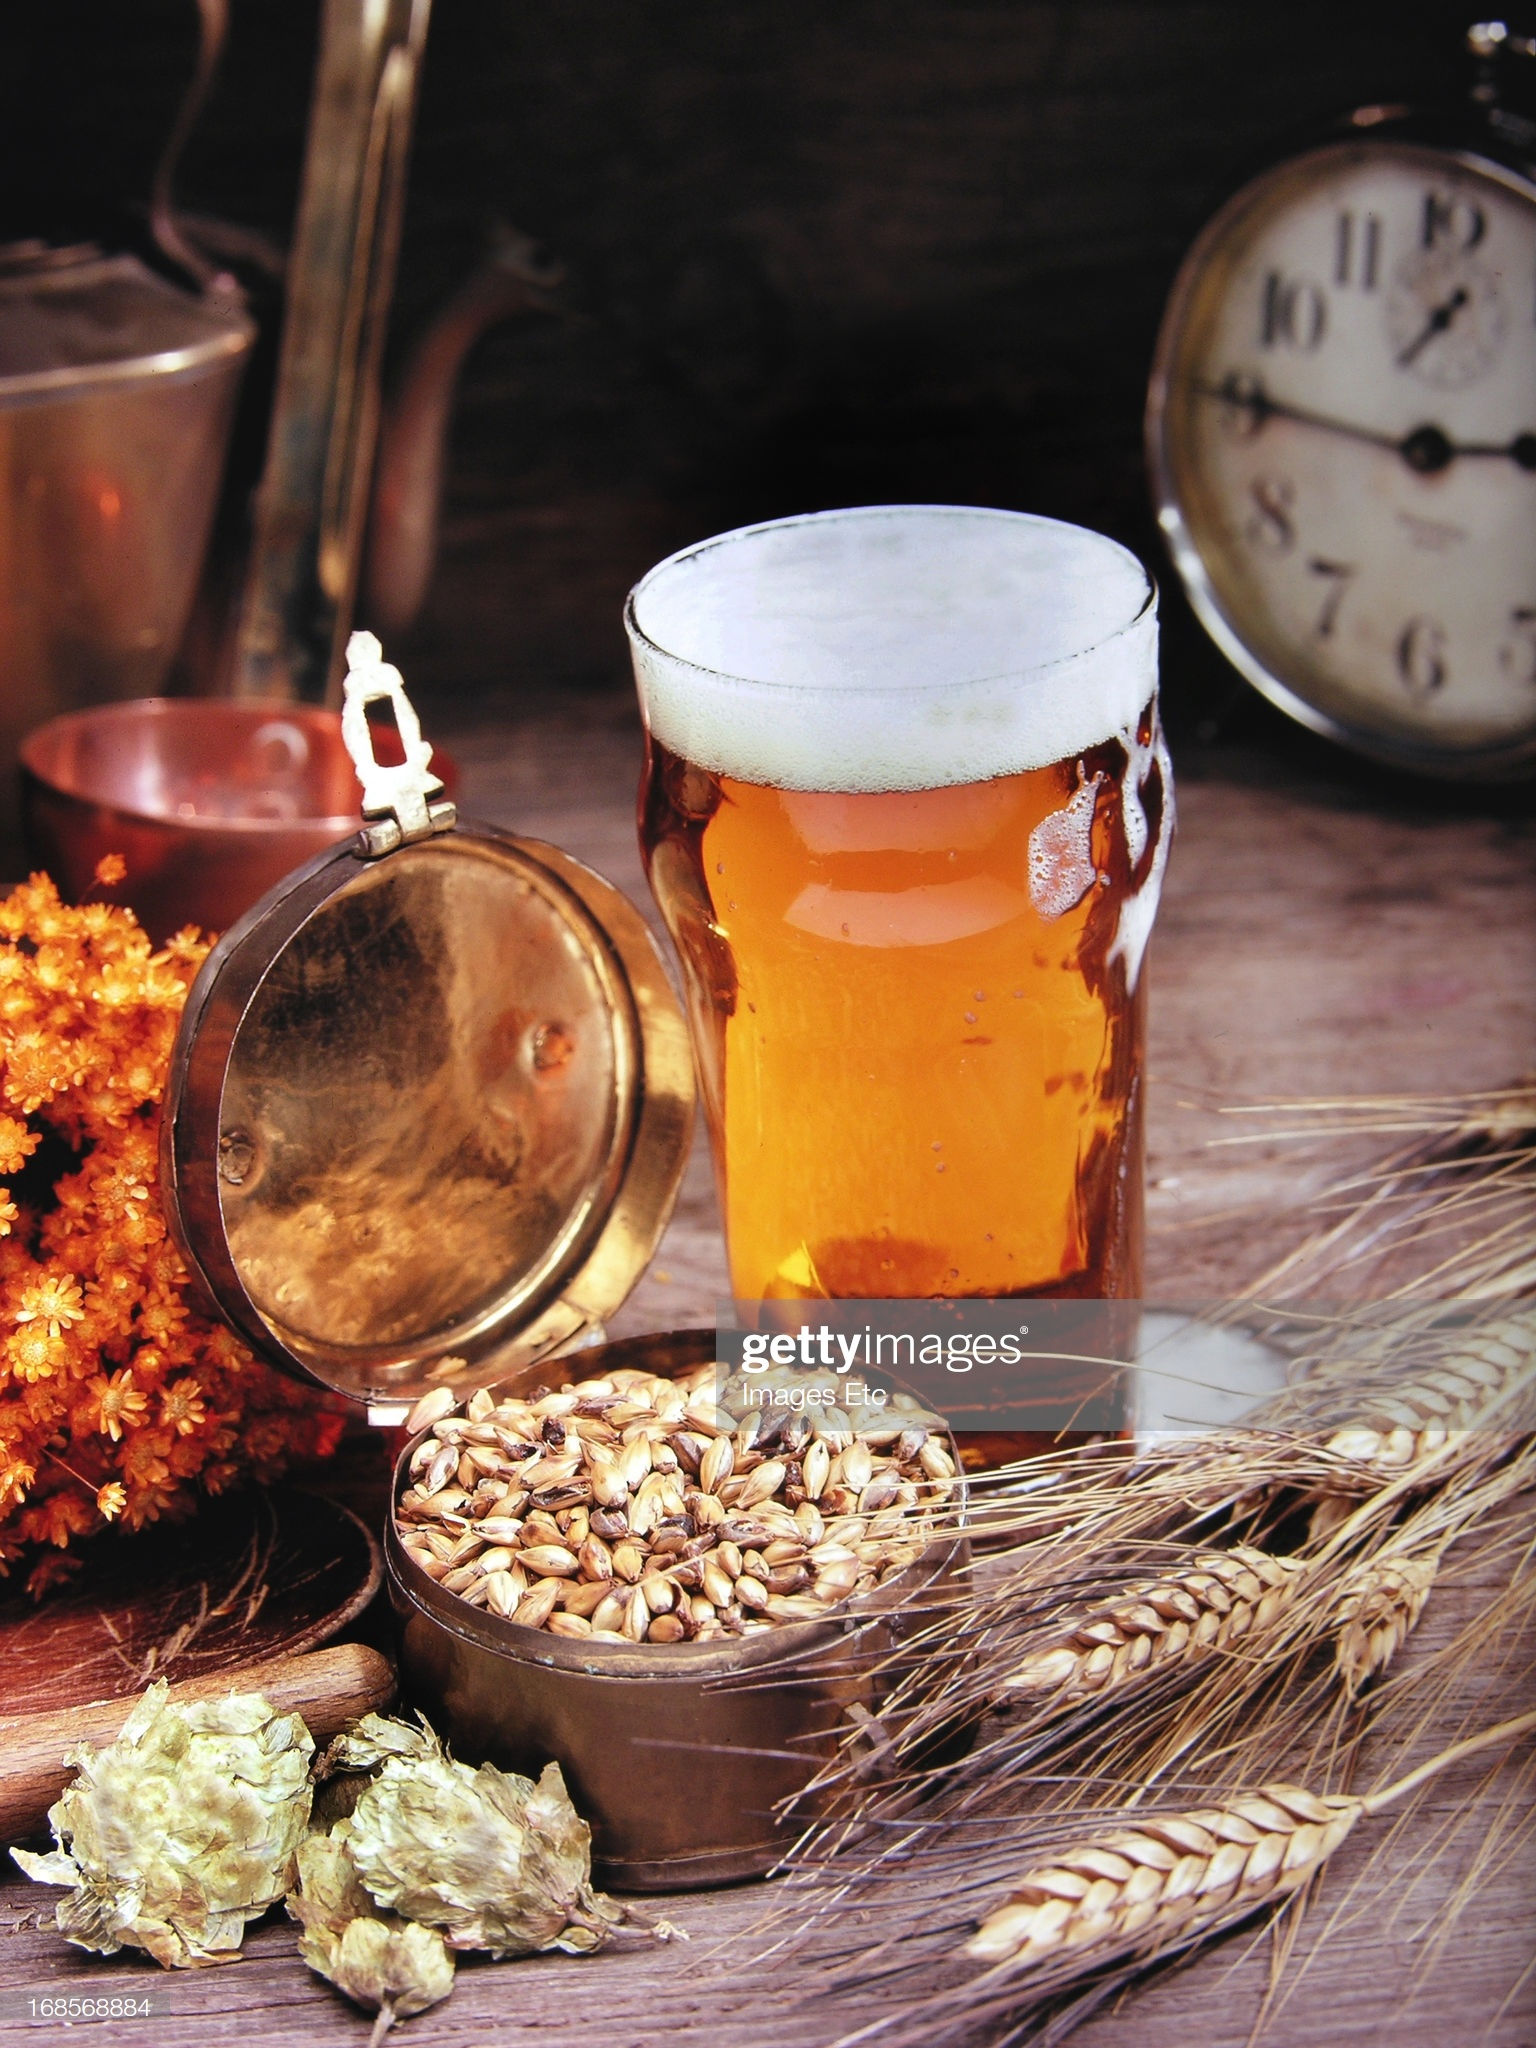glassBeer: (653, 485, 1167, 1467)
